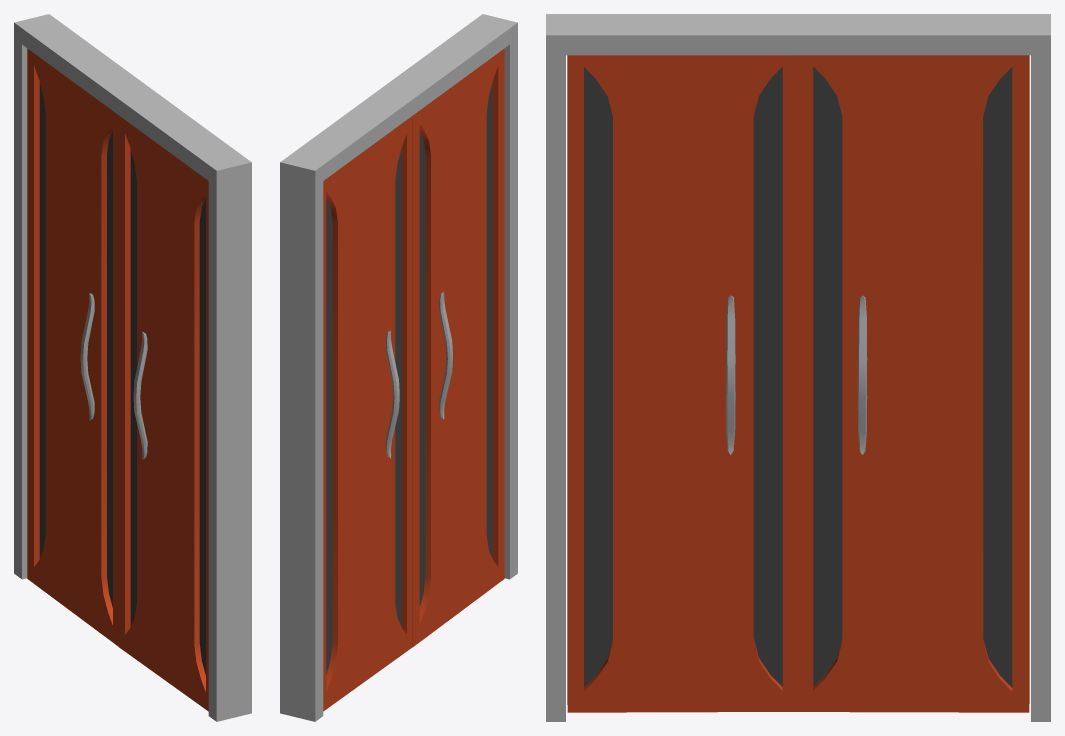
The model's file is Doortwotilewidefrontloft.FBX.
The picture shows the model from 3 angles, left to right: view 1: azimuth 30°, elevation 25°; view 2: azimuth 150°, elevation 25°; view 3: azimuth 270°, elevation 25°; orthographic projection. The views are drawn at different scales.
Visible parts, largest first — view 1: Doortwotilewidefrontloft; view 2: Doortwotilewidefrontloft; view 3: Doortwotilewidefrontloft.
Boxes of the visible parts, x1,y1,x2,y2 form: Doortwotilewidefrontloft: [14, 14, 251, 721]; Doortwotilewidefrontloft: [280, 14, 517, 721]; Doortwotilewidefrontloft: [546, 14, 1050, 721].
Bounding box in the file's own units: 23.29 × 190 × 285.
